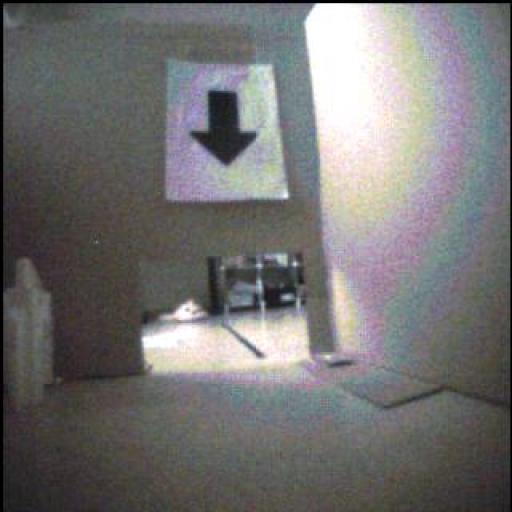arrow: (191, 92, 257, 166)
